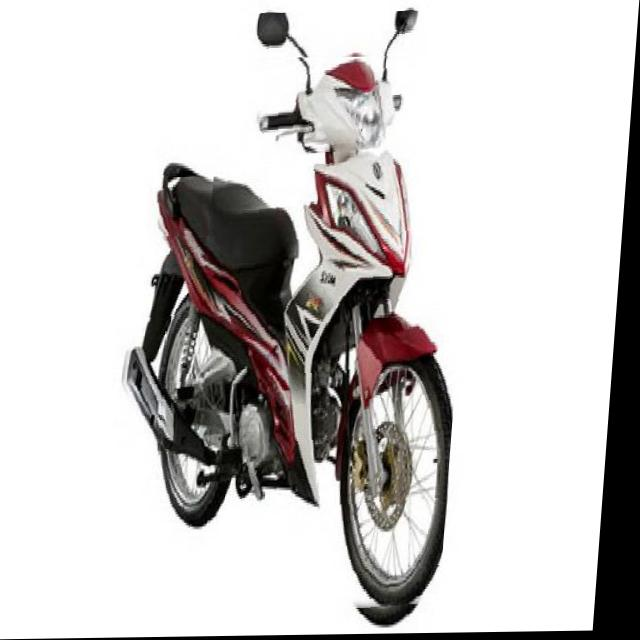All: (108, 11, 483, 627)
Head: (250, 58, 408, 159)
Tail: (146, 154, 218, 237)
